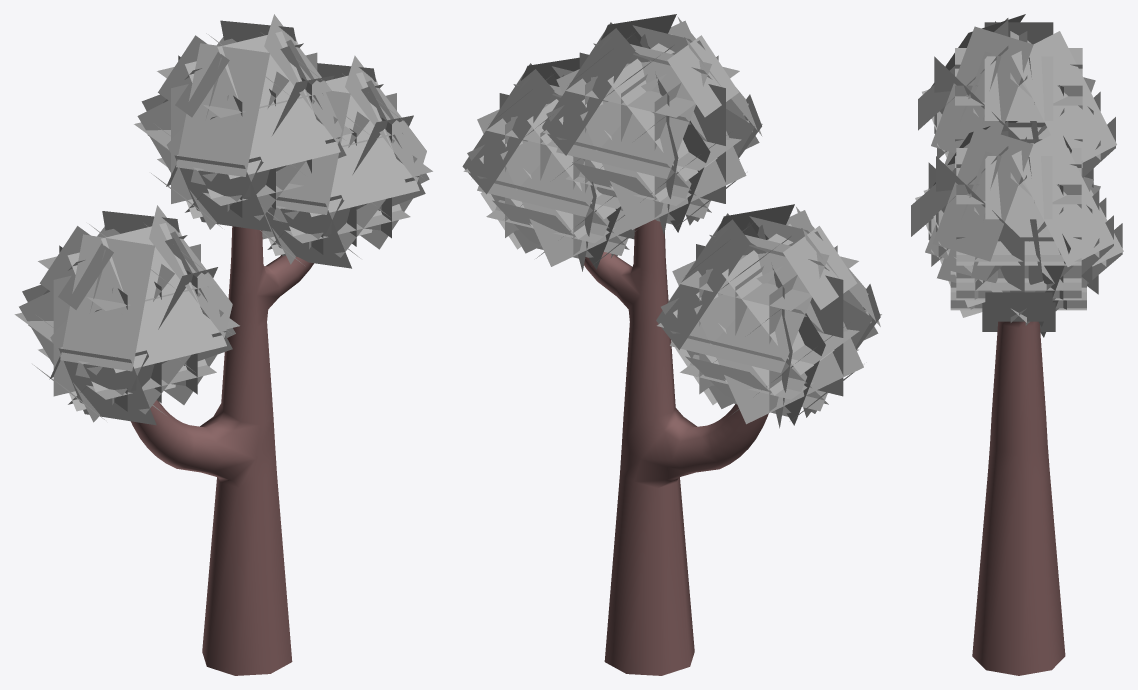
File: sm_arbre1.fbx
3 views of the same model, side by side, from view 1: azimuth 30°, elevation 25°; view 2: azimuth 150°, elevation 25°; view 3: azimuth 270°, elevation 25° (orthographic).
Parts seen in each view (by area): view 1: arbre1; view 2: arbre1; view 3: arbre1.
Boxes of the visible parts, x1,y1,x2,y2 form: arbre1: (14,14,432,675); arbre1: (462,14,881,675); arbre1: (911,14,1123,675).
Bounding box in the file's own units: 34.5 × 54.58 × 16.76.
